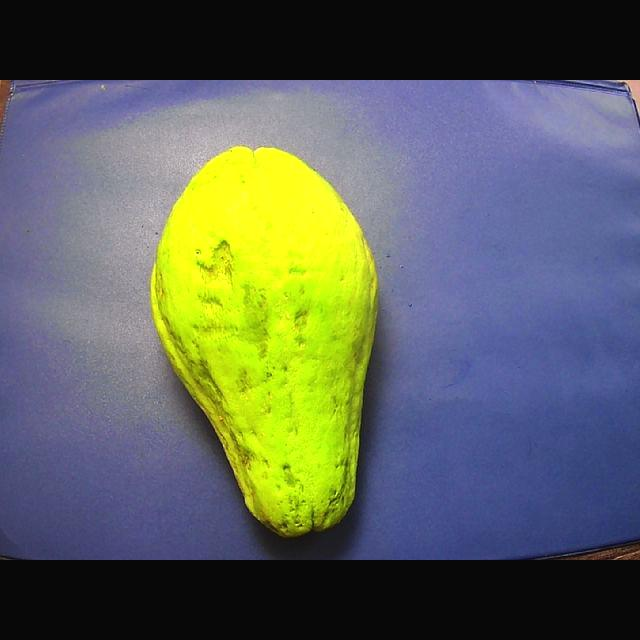chayote: (151, 147, 376, 536)
